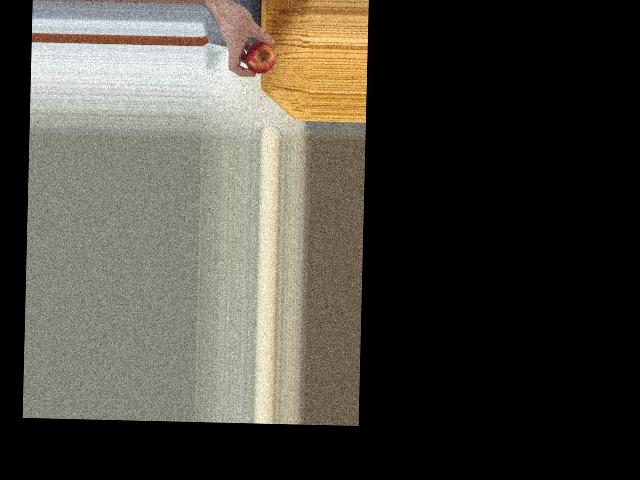apple: (247, 40, 276, 74)
